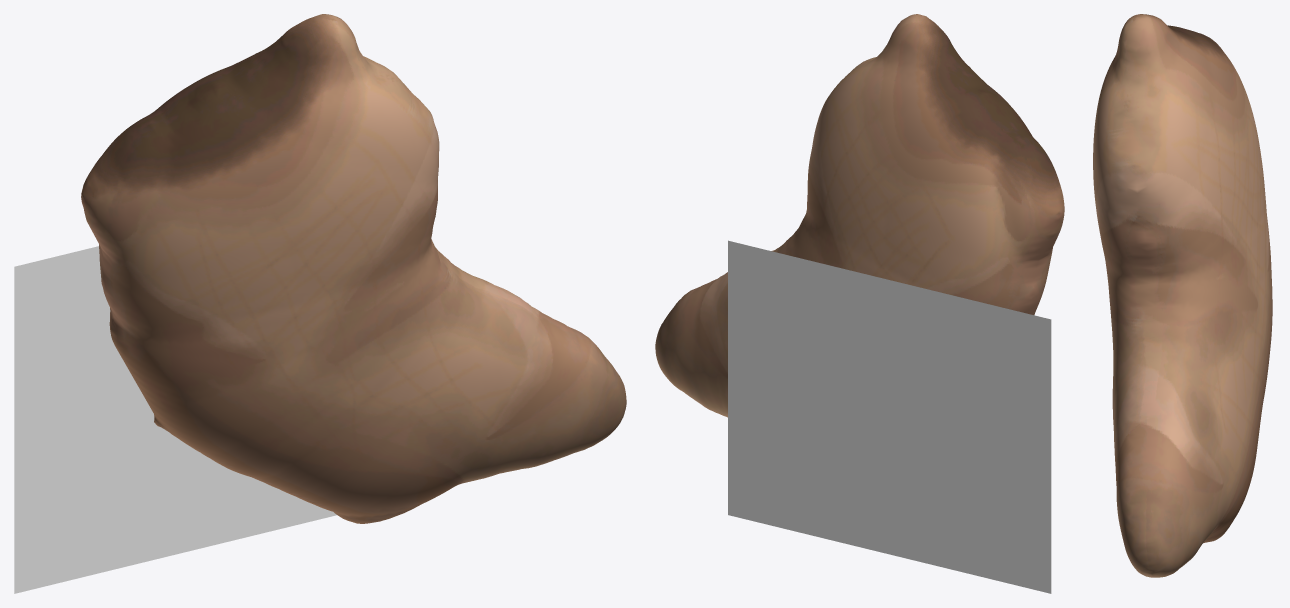
File: sack.fbx
3 renders of one model, left to right at view 1: azimuth 30°, elevation 25°; view 2: azimuth 150°, elevation 25°; view 3: azimuth 270°, elevation 25°, orthographic. The views are drawn at different scales.
Parts seen in each view (by area): view 1: root (×2); view 2: root (×2); view 3: root.
Part boxes in pixels (x1,y1,x2,y2): root (×2): (14,14,626,593); root (×2): (655,14,1064,593); root: (1093,14,1272,577).
Bounding box in the file's own units: 0.9703 × 0.9934 × 0.3213.
3 materials, 3 textured.
